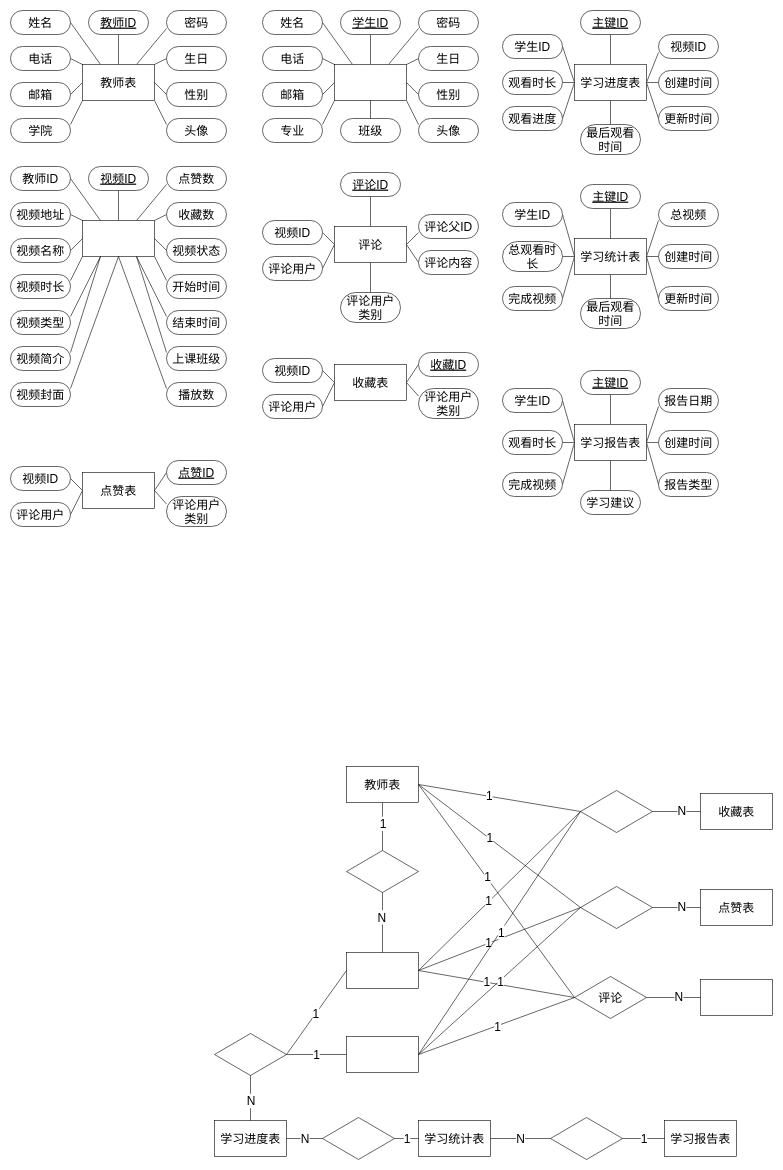
Some shapes in this 783 by 1170 pixel diagram are drawn without their labels. The shapes that lost their labels are listed below. From the top down, each one's centre as x and y in pixels, then its label:
At point (370, 82): "学生 表".
At point (118, 238): "视频 表".
At point (616, 811): "收藏".
At point (382, 871): "发布/上传".
At point (616, 907): "点赞".
At point (382, 970): "视频表".
At point (736, 997): "评论表".
At point (250, 1054): "学习".
At point (382, 1054): "学生表".
At point (358, 1138): "统计".
At point (586, 1138): "生成".
